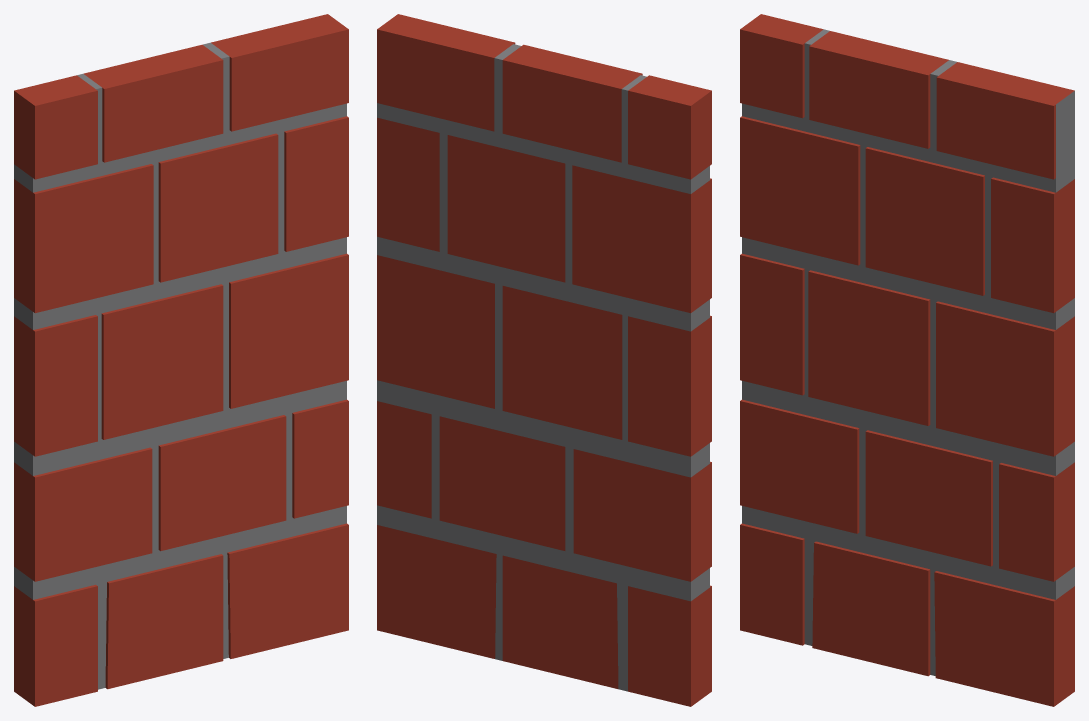
Rendered from Pared1.fbx.
3 views of the same model, side by side, from view 1: azimuth 30°, elevation 25°; view 2: azimuth 150°, elevation 25°; view 3: azimuth 330°, elevation 25° (orthographic).
Parts seen in each view (by area): view 1: Pared; view 2: Pared; view 3: Pared.
Part boxes in pixels (left/top/right/bottom): Pared: left=14, top=14, right=348, bottom=706; Pared: left=377, top=14, right=711, bottom=706; Pared: left=740, top=14, right=1074, bottom=706.
Size of the model in its own units: 4.02 by 7.35 by 0.4667.
